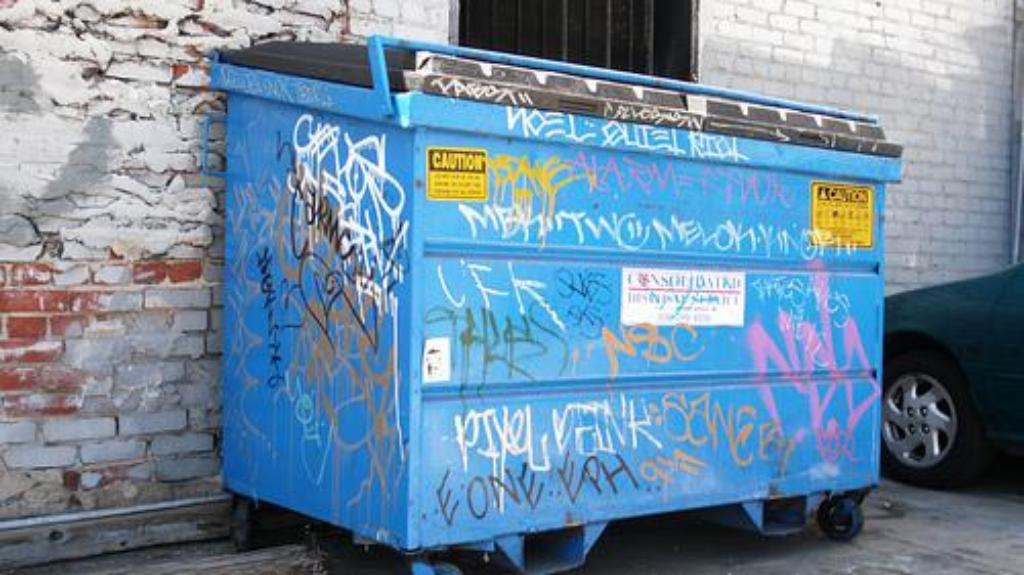dustbin: (200, 26, 910, 561)
